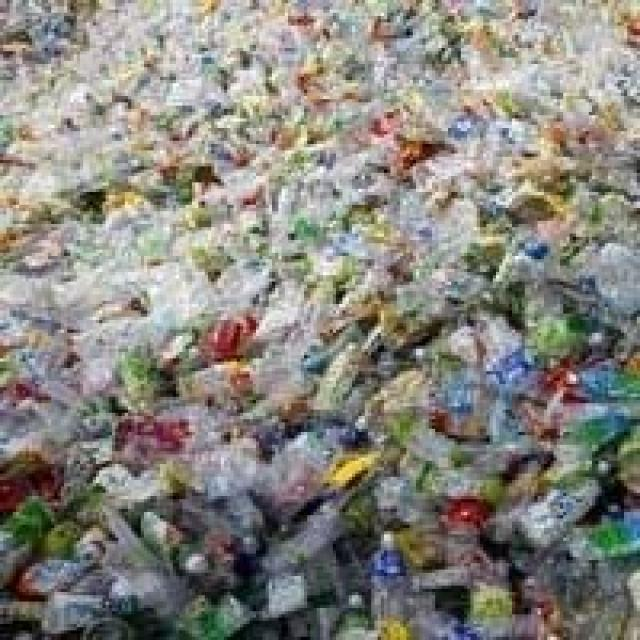plastic: (0, 0, 637, 637), (0, 0, 166, 227), (160, 0, 282, 189), (278, 0, 377, 118), (71, 518, 196, 608), (221, 48, 336, 141), (260, 519, 359, 618), (525, 550, 634, 637), (378, 3, 467, 106), (477, 474, 602, 547), (570, 234, 637, 352), (0, 311, 83, 404), (416, 330, 486, 439), (0, 390, 102, 463), (35, 333, 125, 413), (134, 240, 208, 336), (359, 365, 442, 448), (87, 307, 202, 365), (250, 253, 327, 339), (250, 432, 327, 515), (486, 227, 573, 298), (112, 563, 198, 634), (176, 493, 253, 570), (477, 304, 544, 390), (317, 230, 416, 288), (368, 525, 419, 637), (544, 397, 637, 458), (279, 141, 359, 211), (525, 304, 621, 362), (455, 3, 532, 74), (154, 394, 243, 455), (0, 215, 83, 279), (403, 445, 499, 499), (135, 499, 202, 576), (544, 179, 637, 234), (0, 272, 106, 320), (483, 388, 544, 471), (391, 183, 474, 244), (282, 208, 346, 285), (109, 346, 179, 416), (211, 234, 272, 314), (550, 349, 637, 403), (346, 195, 419, 259), (403, 144, 483, 202), (340, 407, 407, 474), (560, 502, 637, 560), (250, 342, 327, 400), (327, 119, 394, 183), (368, 471, 438, 532), (141, 192, 211, 253), (103, 419, 180, 474), (573, 74, 637, 138), (438, 106, 493, 179), (518, 10, 592, 64), (301, 317, 365, 378), (301, 487, 381, 535), (464, 58, 518, 128), (438, 499, 496, 563), (378, 96, 435, 160), (189, 307, 253, 362), (189, 352, 253, 406), (586, 135, 637, 202), (195, 589, 266, 637), (323, 339, 381, 397), (416, 547, 496, 589), (51, 470, 112, 525), (83, 256, 138, 317), (70, 221, 157, 259), (426, 221, 499, 266), (413, 586, 477, 637), (544, 58, 595, 122), (218, 166, 263, 237), (400, 266, 470, 311), (0, 448, 58, 502), (464, 116, 525, 167), (19, 554, 93, 595), (368, 292, 426, 343), (595, 429, 637, 499), (506, 64, 560, 118), (0, 496, 54, 547), (397, 419, 458, 464), (39, 592, 103, 634), (493, 176, 557, 218), (582, 35, 637, 80), (288, 579, 330, 637), (531, 115, 589, 157), (458, 611, 551, 637), (516, 148, 583, 183), (311, 445, 362, 490), (186, 180, 231, 231), (470, 445, 544, 474), (586, 0, 637, 42), (99, 192, 154, 230), (215, 490, 266, 528), (522, 0, 595, 26), (0, 595, 45, 637), (250, 141, 279, 205), (461, 570, 509, 608), (618, 560, 637, 637), (336, 589, 365, 637), (90, 454, 141, 480), (240, 608, 285, 637), (87, 614, 132, 637)
